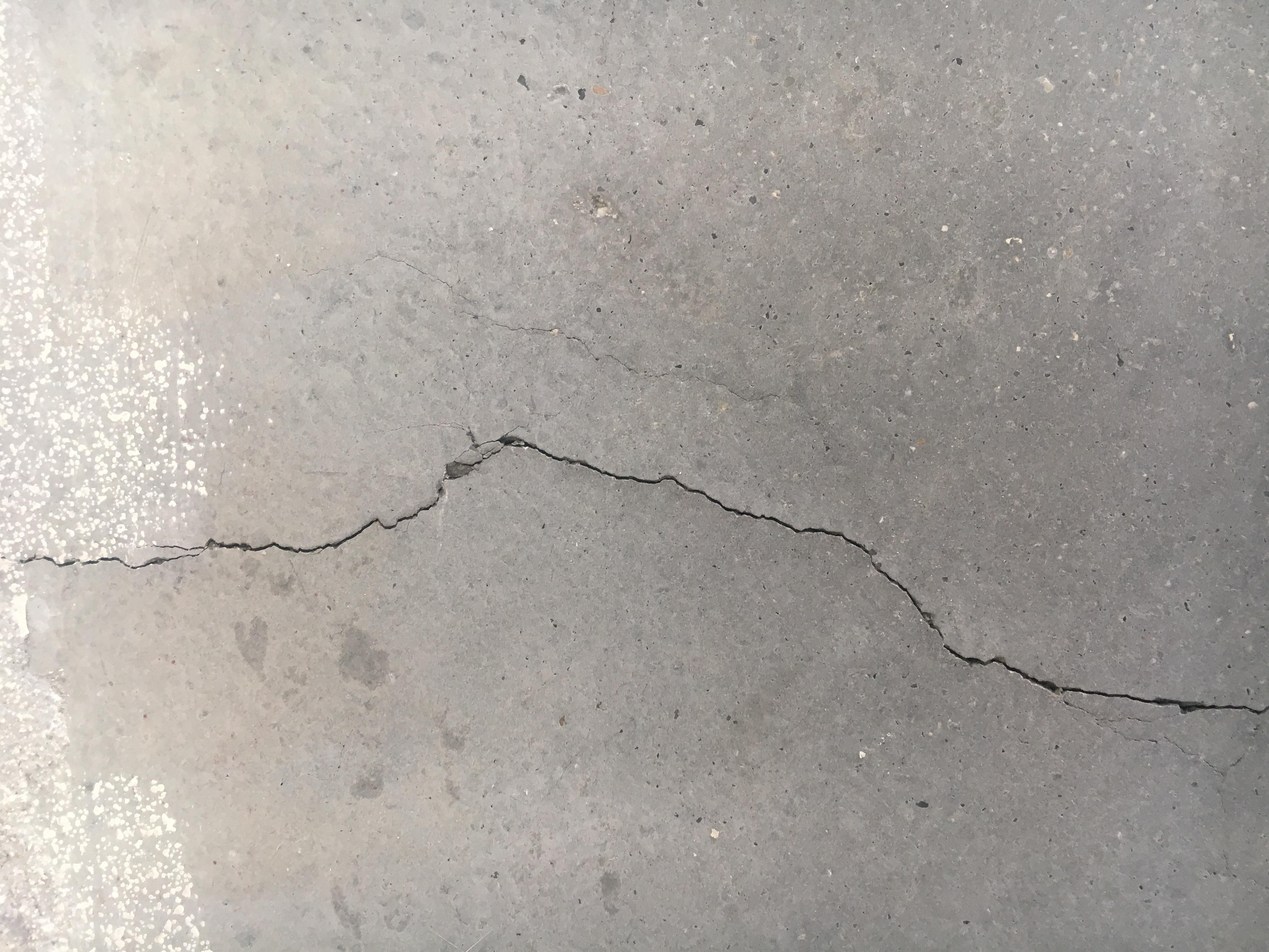Horizontal Settlement Crack: (14, 426, 1264, 725)
